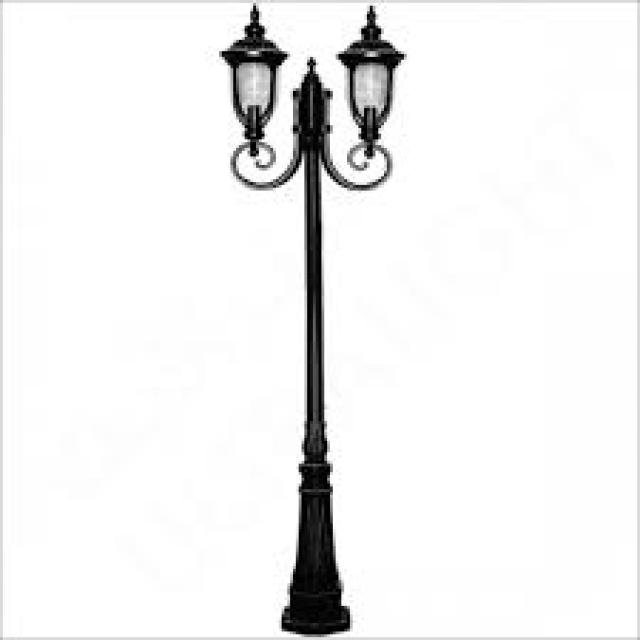Street Light: (222, 3, 407, 634)
